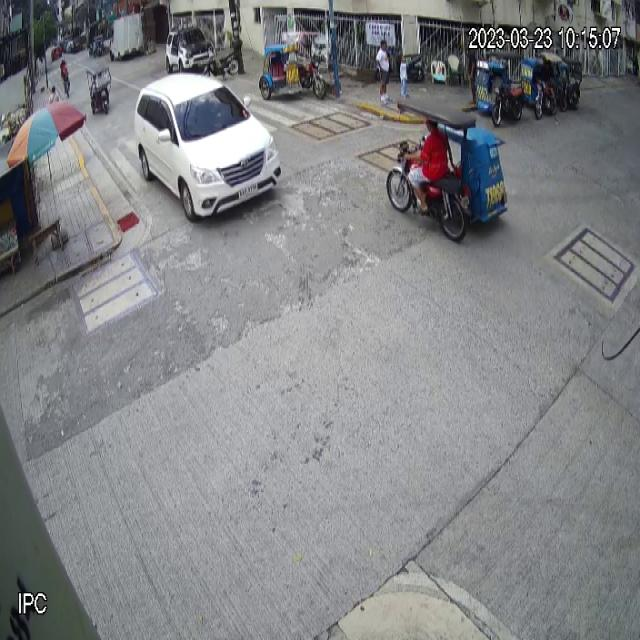Car: (133, 72, 282, 222)
Tricycle: (386, 95, 508, 241), (258, 30, 328, 101), (476, 51, 525, 127)
